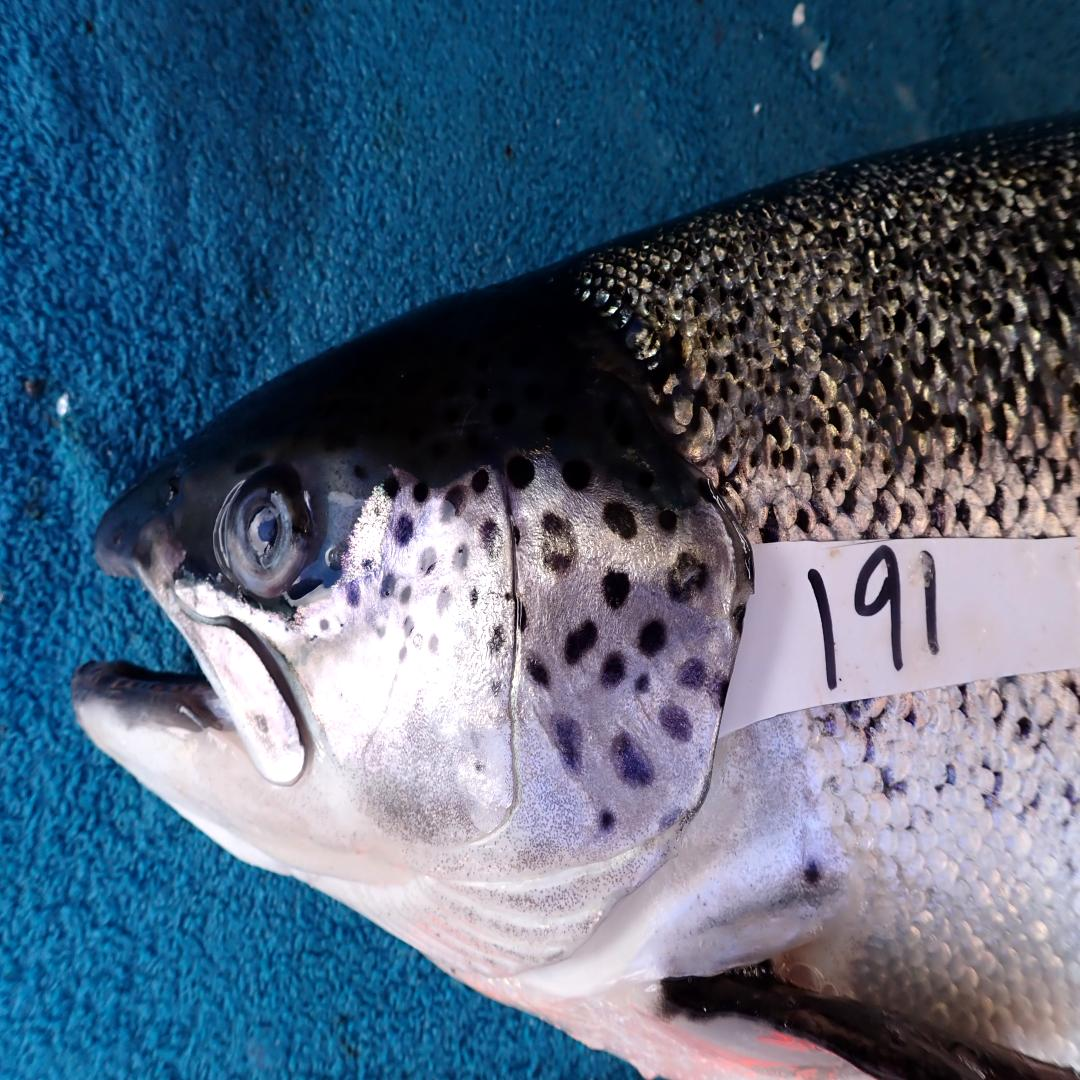roi: (304, 447, 747, 991)
